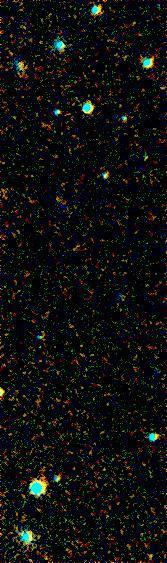star: (106, 92, 136, 122)
